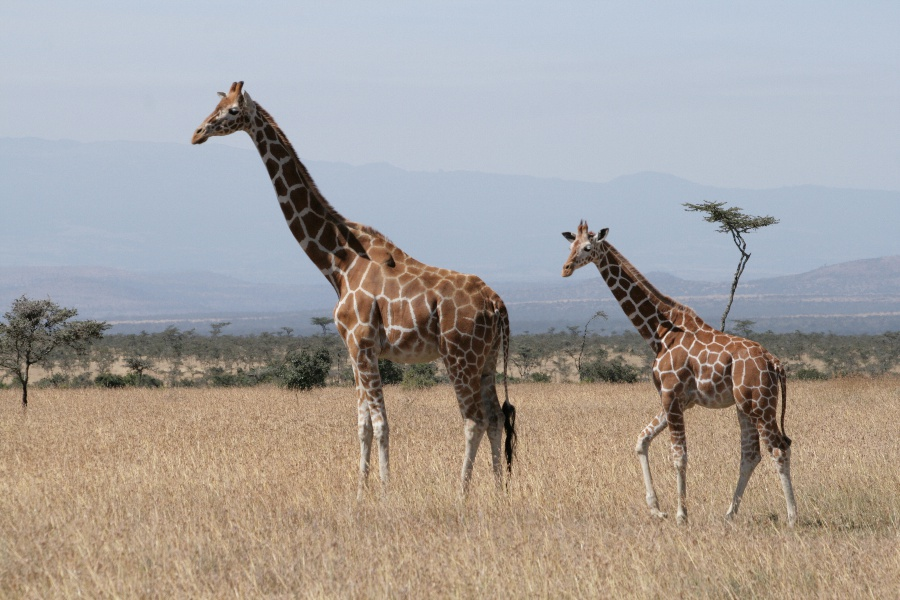giraffe: (182, 72, 529, 498), (552, 212, 812, 534)
